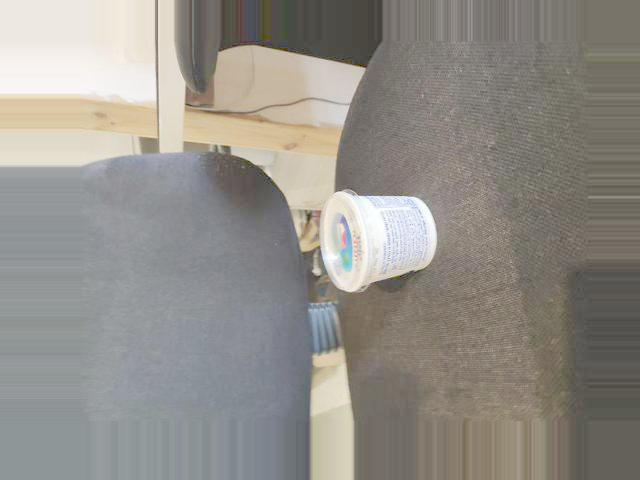cotage: (311, 200, 437, 288)
